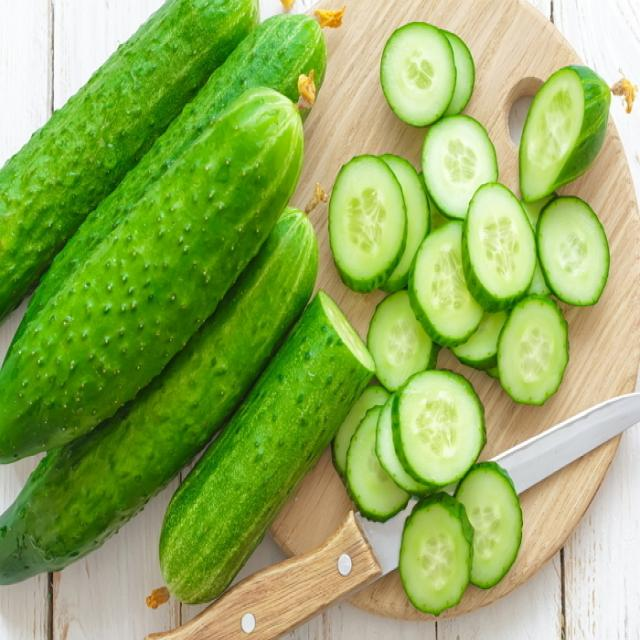cucumber: (331, 11, 630, 639), (327, 287, 552, 601), (410, 112, 560, 332), (315, 361, 498, 497), (508, 49, 626, 218), (329, 154, 443, 298), (367, 11, 466, 141)
